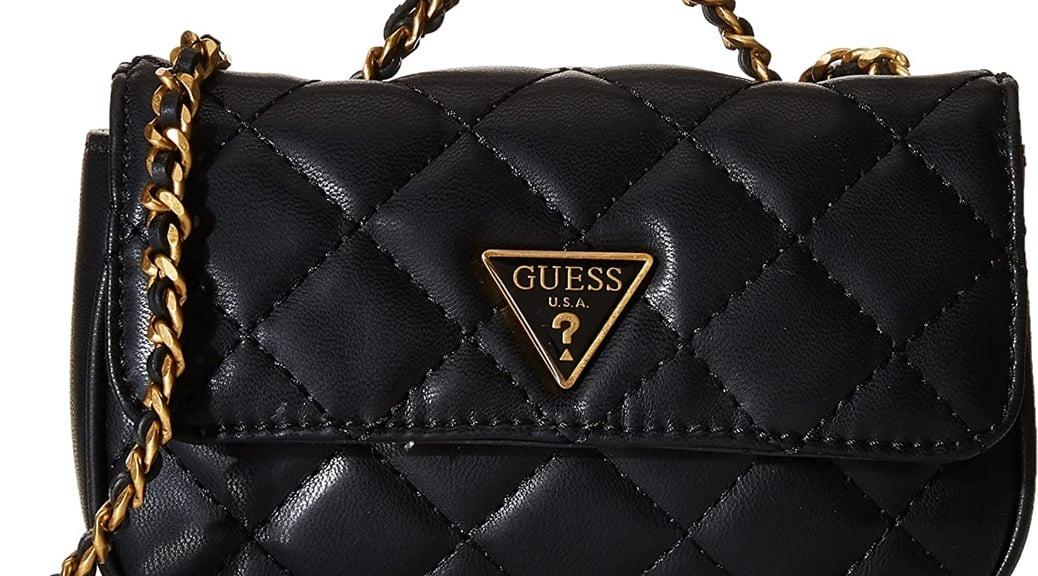GUESS: (513, 264, 623, 292)
